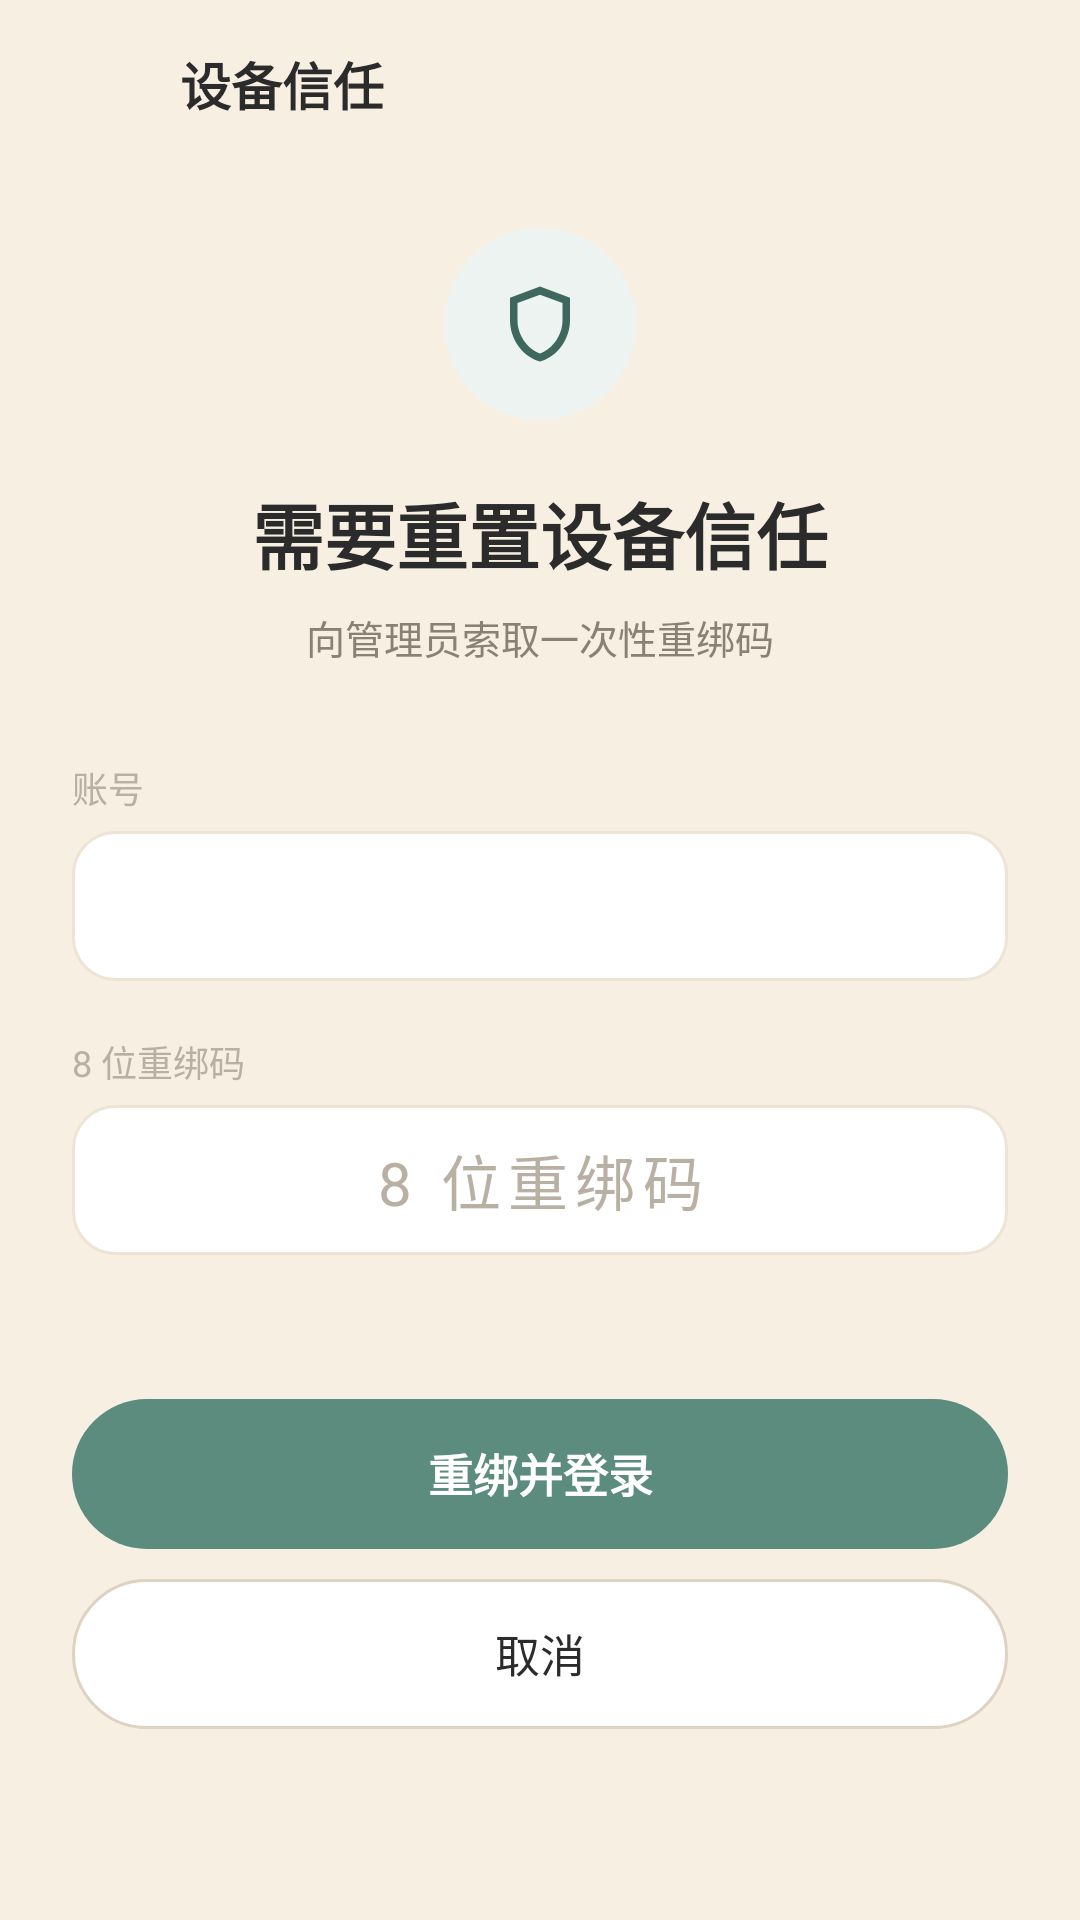

Icon click points for this 1080 × 1920 phone screenshot, format (x,y):
shield: (540,324)
